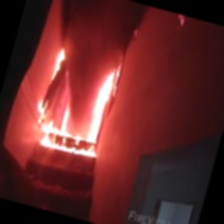fire: (28, 45, 133, 167)
